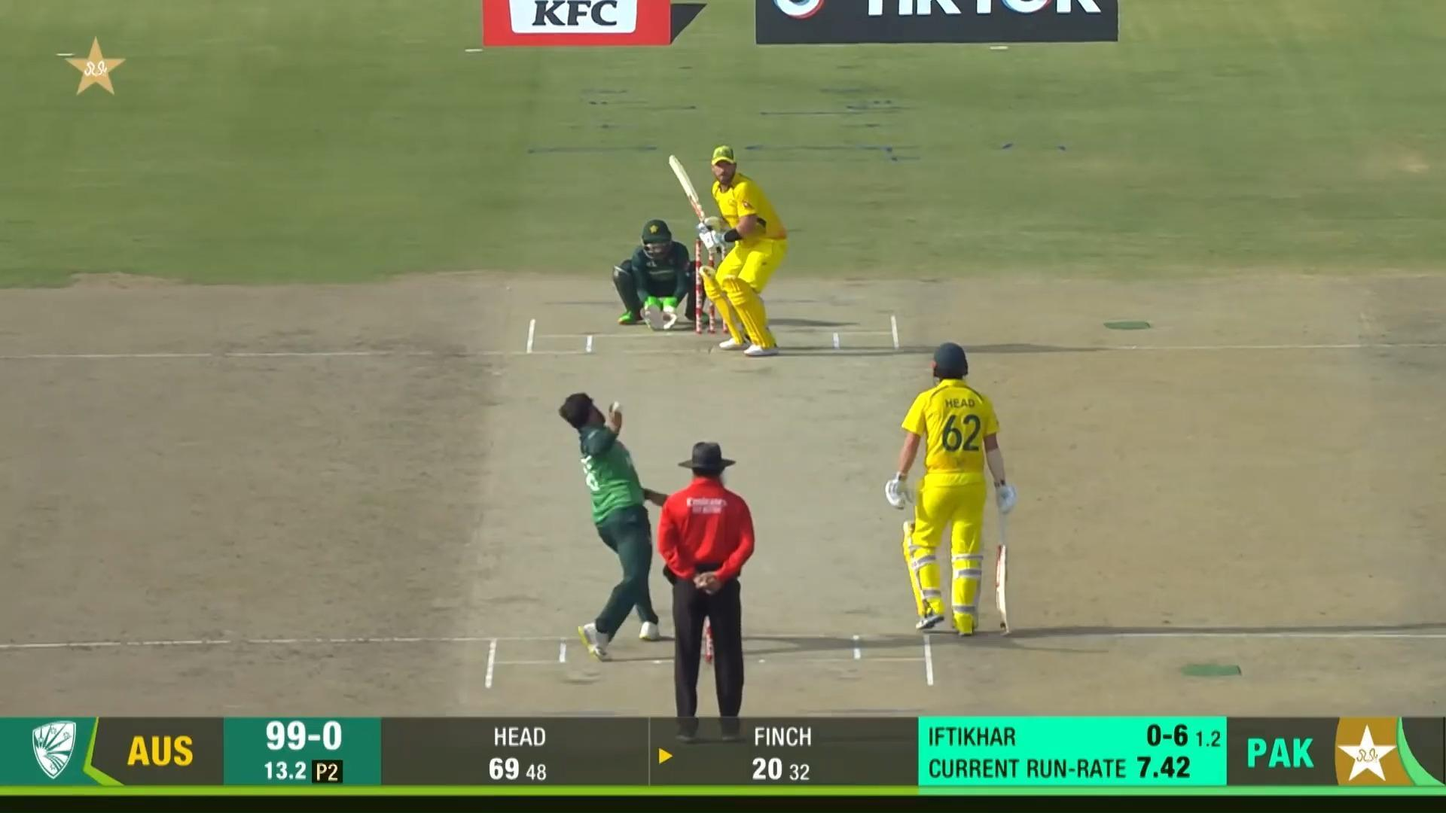BM 1: (665, 143, 789, 359)
BO: (558, 388, 673, 661)
